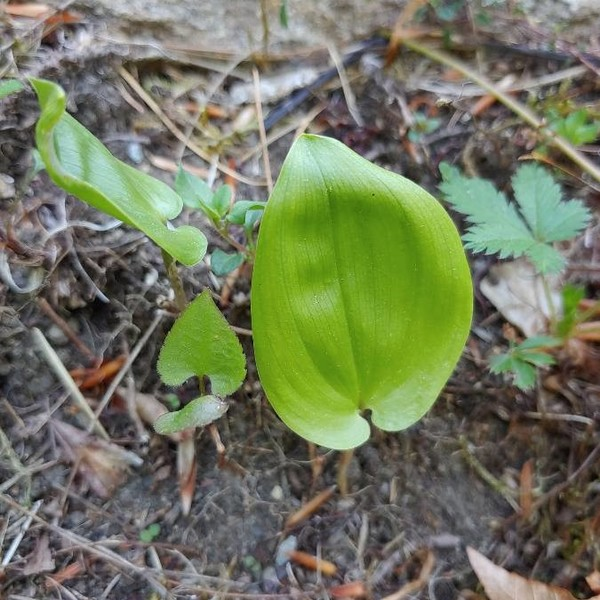obstacle: (47, 92, 472, 487)
